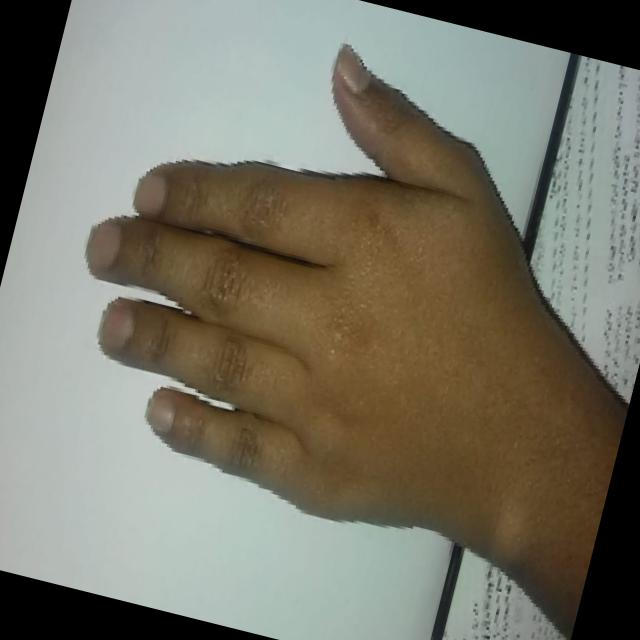Nail: (333, 44, 371, 94), (98, 303, 133, 350), (85, 224, 120, 268), (133, 173, 166, 213), (145, 395, 174, 432)
